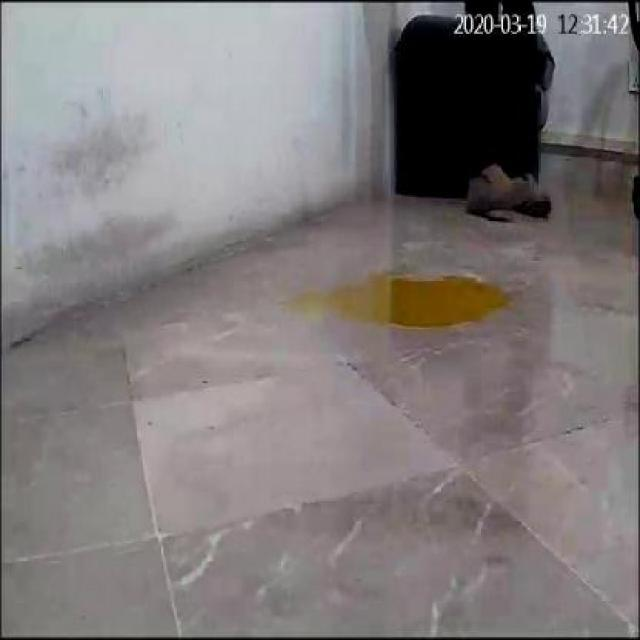spill: (306, 274, 514, 326)
